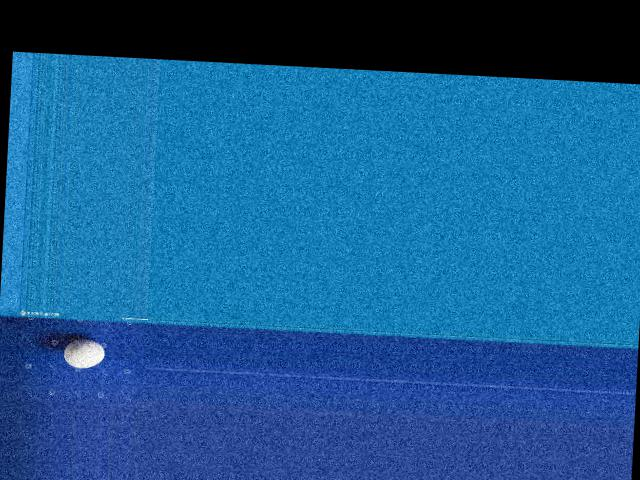egg: (63, 337, 106, 368)
